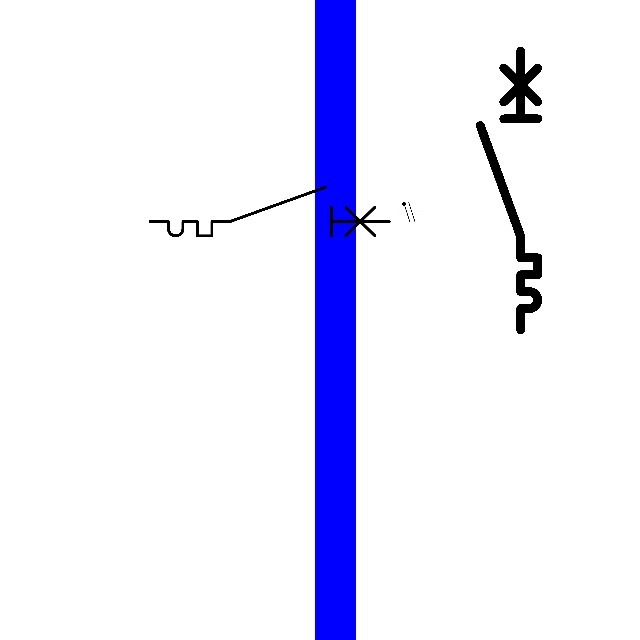interruptor_termomagnetico: (473, 44, 545, 337), (144, 181, 395, 242)
